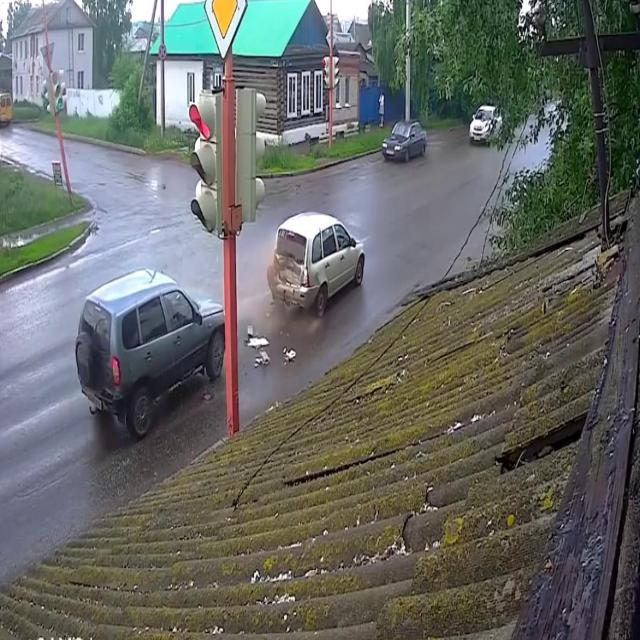accident: (260, 204, 369, 336)
